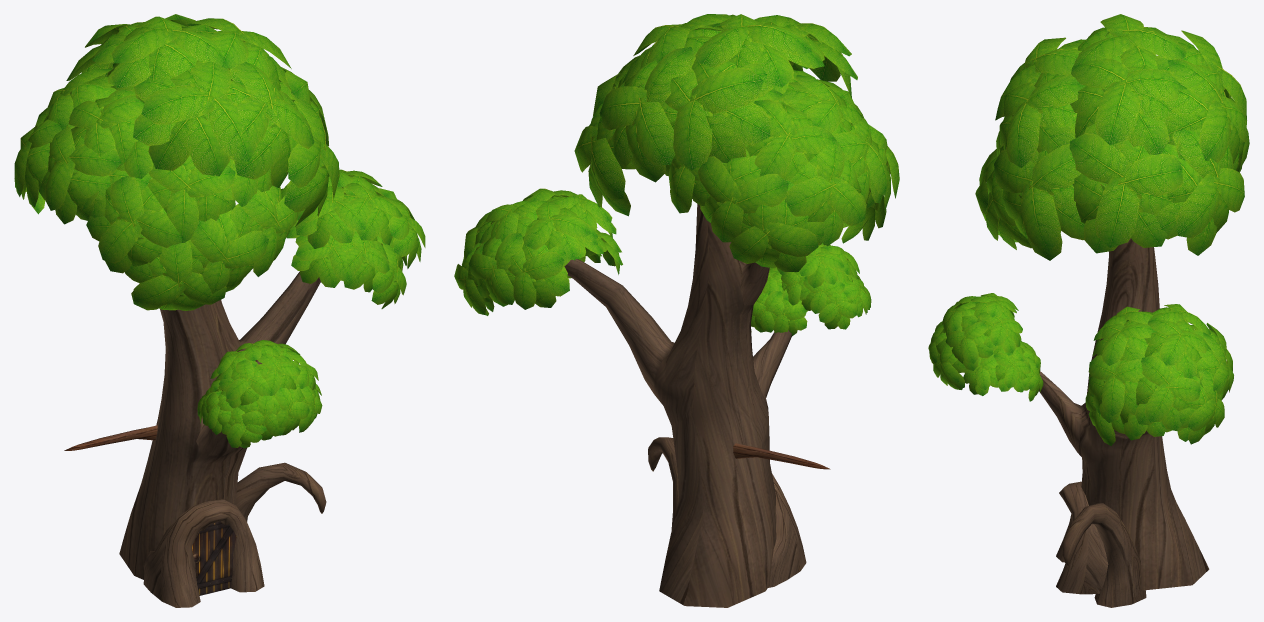
The model's file is Tree_House.fbx.
The picture shows the model from 3 angles, left to right: view 1: azimuth 30°, elevation 25°; view 2: azimuth 150°, elevation 25°; view 3: azimuth 270°, elevation 25°; orthographic projection. The views are drawn at different scales.
Visible parts, largest first — view 1: pCube39, pCube41, pCube8, pCube40, pCube9, pCube44, pCube42, pCube43, pCube45; view 2: pCube8, pCube39, pCube40, pCube42, pCube45, pCube41, pCube46, pCube9, pCube44, pCube43; view 3: pCube39, pCube8, pCube42, pCube44, pCube9, pCube46, pCube41, pCube43.
Boxes of the visible parts, x1,y1,x2,y2 form: pCube39: (66,14,339,226); pCube41: (82,140,297,310); pCube8: (64,271,326,579); pCube40: (14,66,144,224); pCube9: (143,499,264,607); pCube44: (210,340,322,440); pCube42: (281,169,425,268); pCube43: (286,219,406,308); pCube45: (197,373,274,448); pCube8: (564,204,830,607); pCube39: (574,14,857,216); pCube40: (665,70,888,271); pCube42: (454,188,616,315); pCube45: (781,270,871,329); pCube41: (778,79,899,243); pCube46: (751,267,807,336); pCube9: (768,473,806,587); pCube44: (769,243,861,288); pCube43: (481,229,622,311); pCube39: (994,14,1246,260); pCube8: (1039,238,1209,607); pCube42: (1088,304,1233,444); pCube44: (928,293,1022,389); pCube9: (1056,481,1108,594); pCube46: (963,341,1043,401); pCube41: (975,117,1031,249); pCube43: (1085,374,1190,445).
Size of the model in its own units: 54.29 by 73.92 by 39.7.
